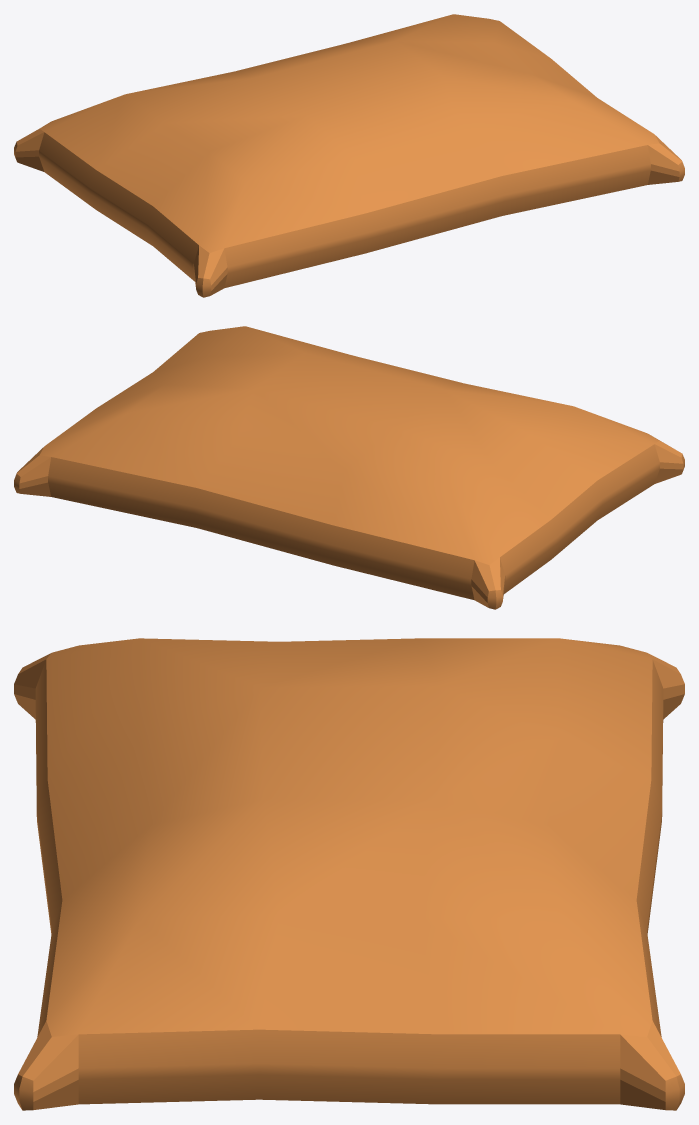
The model's file is GrainSack_Base.fbx.
The picture shows the model from 3 angles, top to bottom: view 1: azimuth 30°, elevation 25°; view 2: azimuth 150°, elevation 25°; view 3: azimuth 270°, elevation 25°; orthographic projection. The views are drawn at different scales.
Visible parts, largest first — view 1: GrainSack_Base; view 2: GrainSack_Base; view 3: GrainSack_Base.
Part boxes in pixels (x1=…): GrainSack_Base: x1=14, y1=14, x2=684, y2=297; GrainSack_Base: x1=14, y1=326, x2=684, y2=609; GrainSack_Base: x1=14, y1=638, x2=684, y2=1110.
Bounding box in the file's own units: 24.71 × 4.97 × 16.83.
